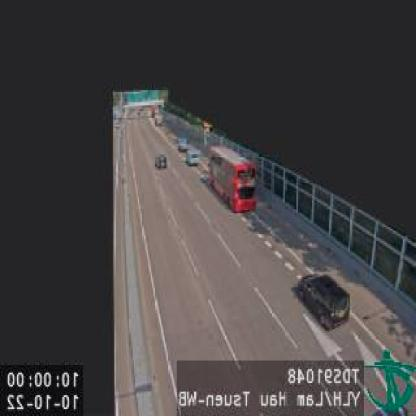Bus: (210, 144, 255, 214)
Car: (293, 268, 352, 334), (184, 147, 198, 165), (156, 154, 168, 170)
